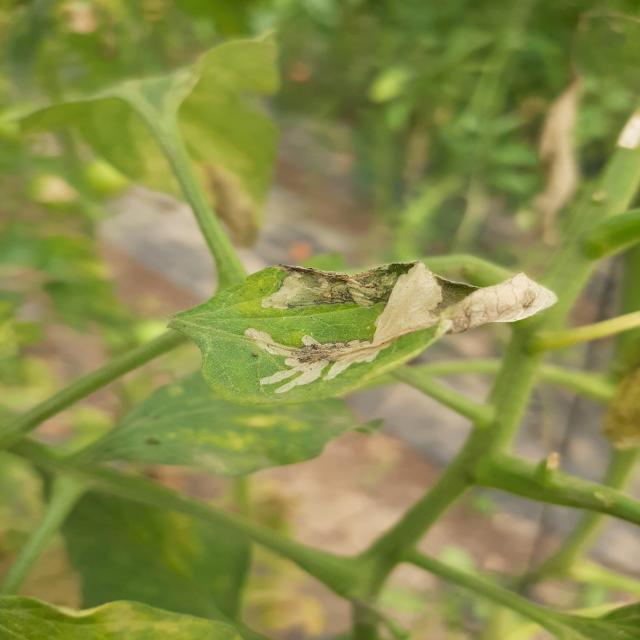Tuta absoluta: (241, 260, 457, 403), (439, 263, 559, 346), (262, 269, 380, 311)
